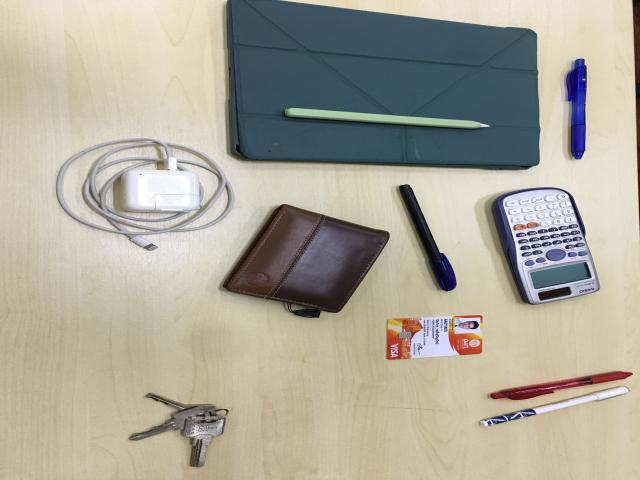Pen: (397, 185, 459, 294), (570, 59, 592, 159)
Wallet: (222, 205, 390, 317)
wire: (65, 141, 221, 242)
